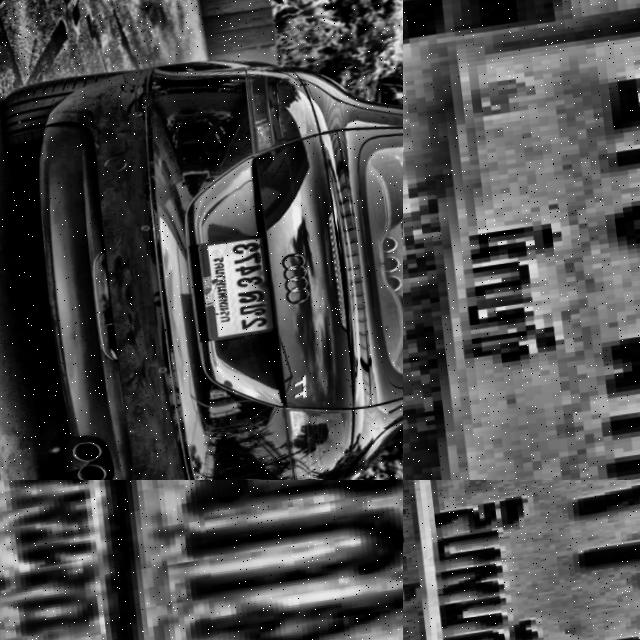license-plate: (403, 0, 640, 480), (0, 480, 403, 640), (403, 480, 640, 640), (192, 232, 284, 343)
